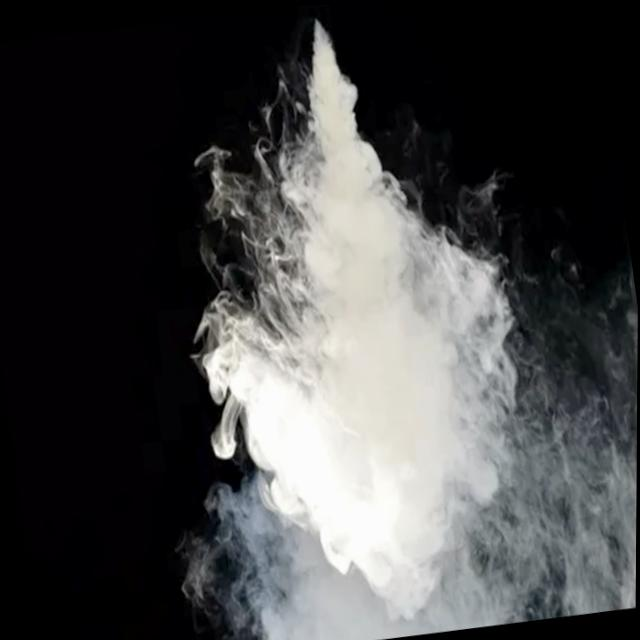Smoke: (104, 1, 563, 640)
